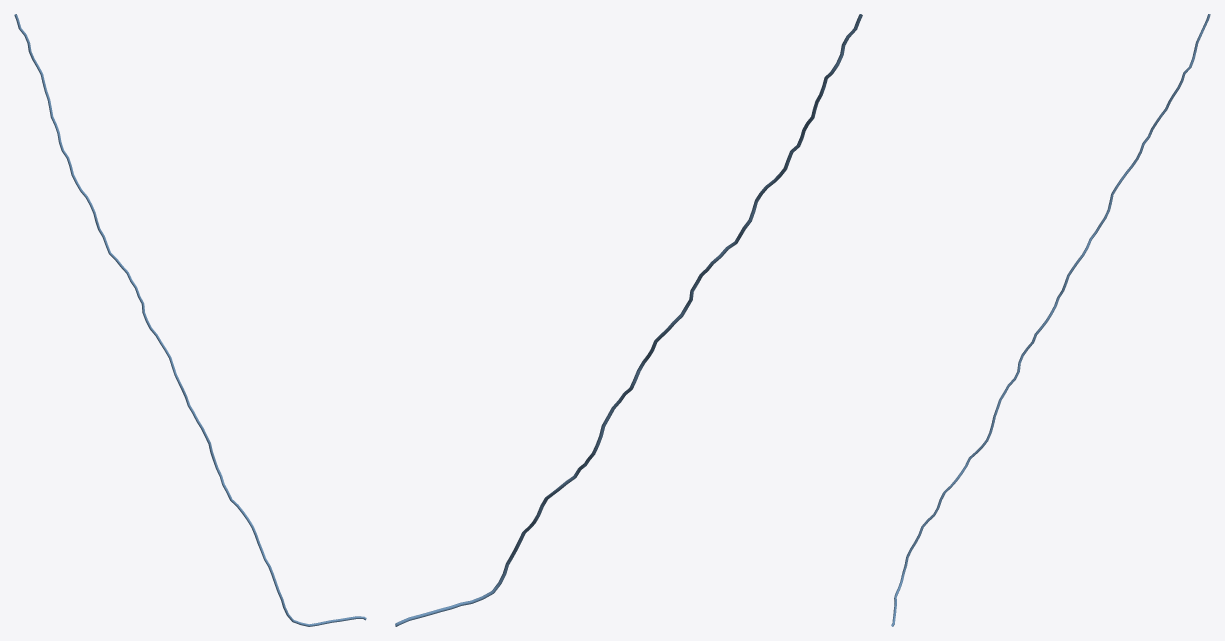
The model's file is sweep247.fbx.
3 renders of one model, left to right at view 1: azimuth 30°, elevation 25°; view 2: azimuth 210°, elevation 25°; view 3: azimuth 270°, elevation 25°, orthographic. The views are drawn at different scales.
Parts seen in each view (by area): view 1: sweep247; view 2: sweep247; view 3: sweep247.
Boxes of the visible parts, box(x1,y1,x2,y2) form: sweep247: box(14, 14, 366, 626); sweep247: box(395, 14, 862, 626); sweep247: box(891, 14, 1210, 626).
Bounding box in the file's own units: 1.57 × 4.21 × 2.33.
